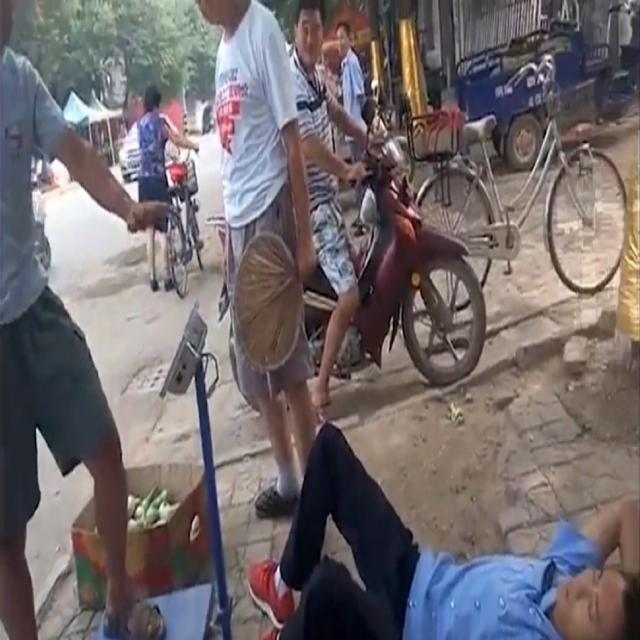fall: (258, 422, 636, 634)
